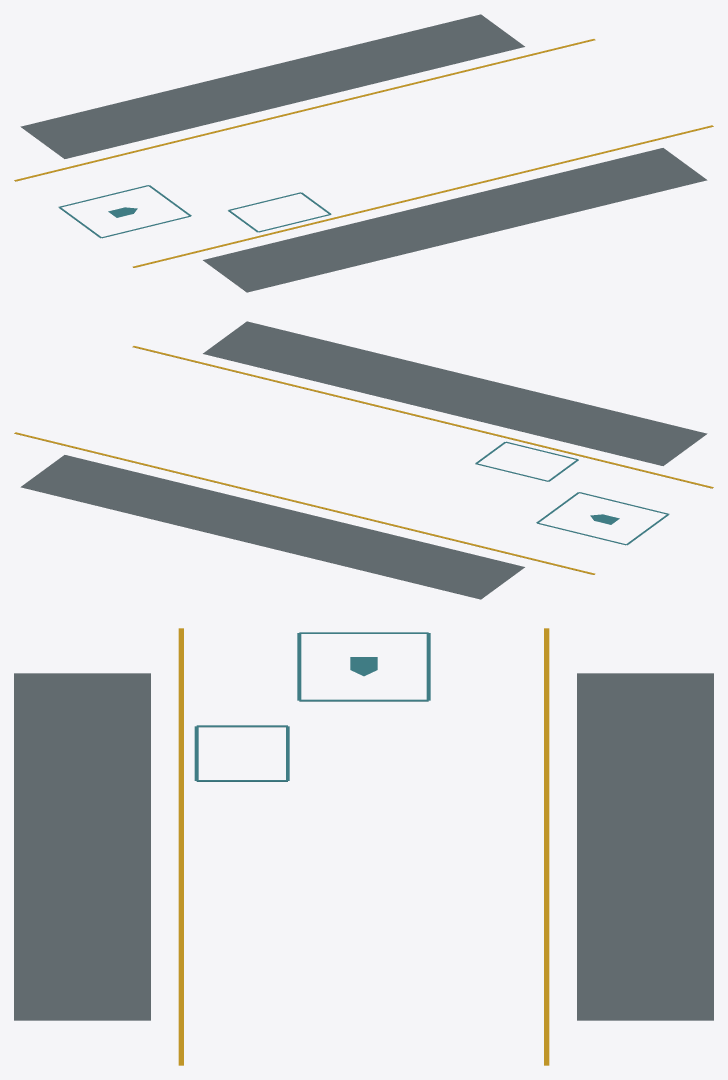
The model's file is floor_markings.dae.
3 renders of one model, top to bottom at view 1: azimuth 30°, elevation 25°; view 2: azimuth 150°, elevation 25°; view 3: azimuth 270°, elevation 25°, orthographic. The views are drawn at different scales.
Visible parts, largest first — view 1: model; view 2: model; view 3: model.
Boxes of the visible parts, bbox=[...] form: model: bbox=[14, 14, 713, 292]; model: bbox=[14, 321, 713, 599]; model: bbox=[14, 628, 713, 1065].
Size of the model in its own units: 6.8 by 4.6 by 0.002.
